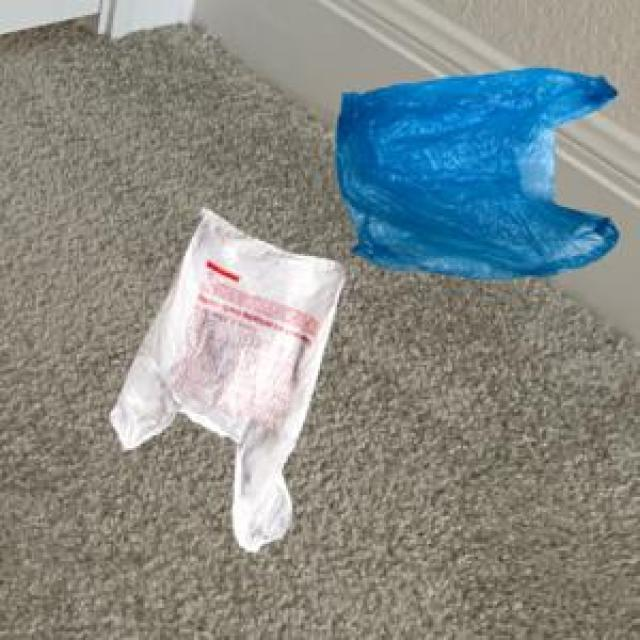waste: (111, 210, 344, 551), (336, 69, 618, 277)
